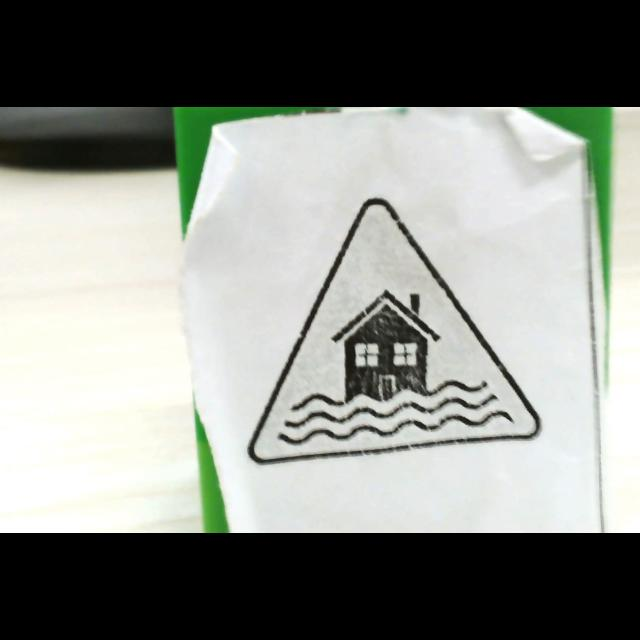Tsunami: (248, 198, 541, 465)
